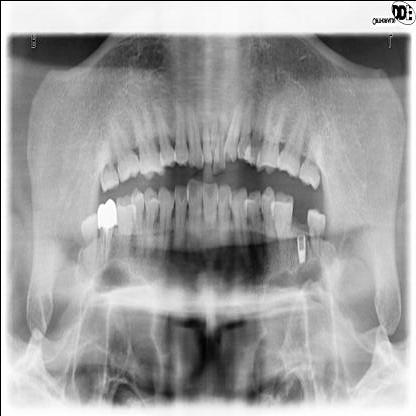Bicon: (295, 231, 306, 266)
